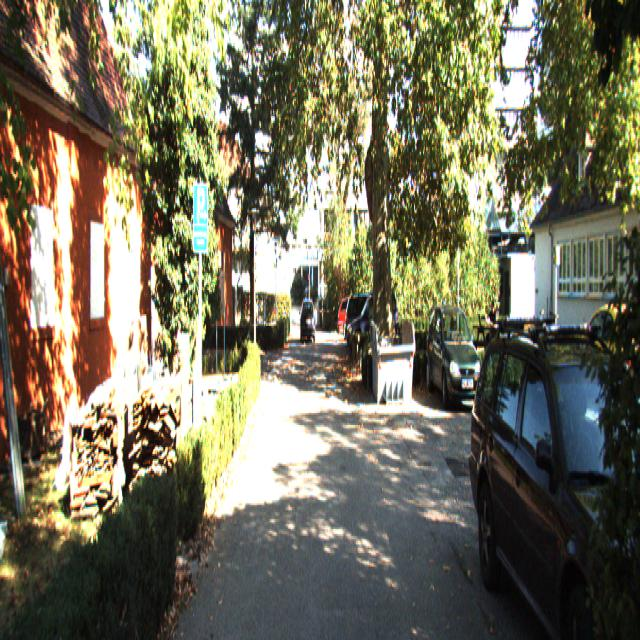Car: (469, 316, 639, 638), (424, 301, 486, 414), (346, 290, 400, 355), (300, 299, 316, 343)
